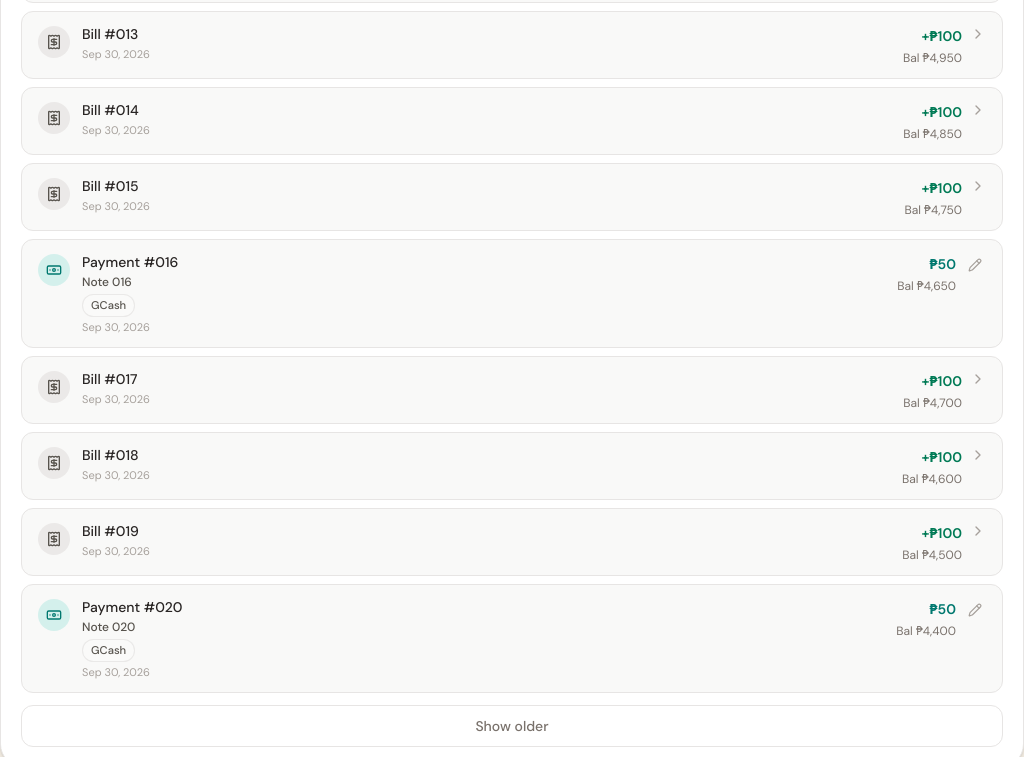
it: PersonDetailPage same-leg edit answered as a primed read (round 2, H8.1) › a primed write that ADDS a payment leg with 40 rows loaded still makes exactly one lookup
(page scrolled)
Click the button "Show older": (512, 726) [21,706,1003,748]
(page scrolled)
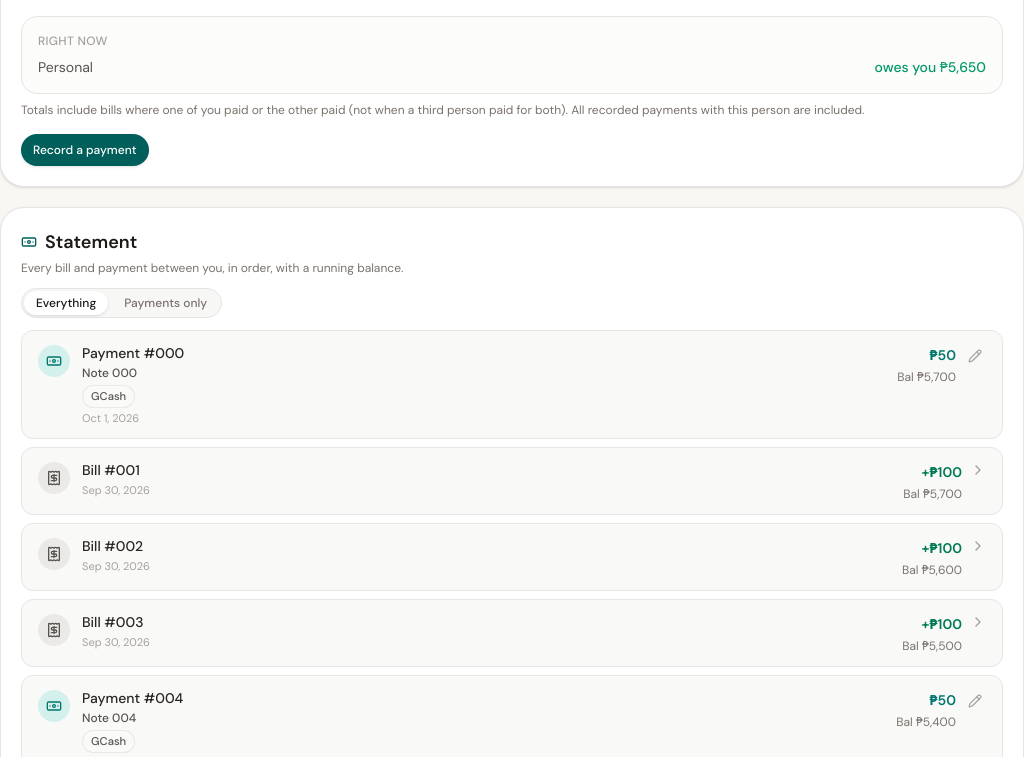
Expected: the list item "Payment #000 Note 000 GCash Oct 1, 2026 ₱50 Bal ₱5,700" is shown, [21,330,1003,439]
